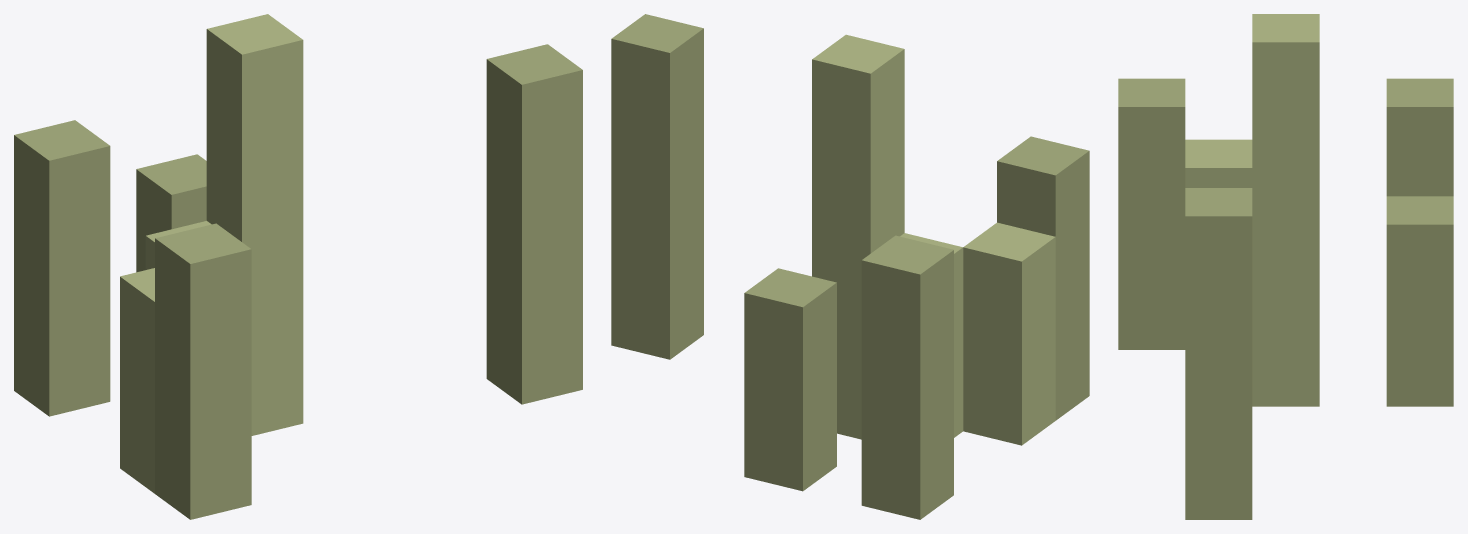
File: juncos_de_playa_02.glb
3 renders of one model, left to right at view 1: azimuth 30°, elevation 25°; view 2: azimuth 150°, elevation 25°; view 3: azimuth 270°, elevation 25°, orthographic. The views are drawn at different scales.
Visible parts, largest first — view 1: juncos_de_playa_02; view 2: juncos_de_playa_02; view 3: juncos_de_playa_02.
Boxes of the visible parts, box(x1,y1,x2,y2) form: juncos_de_playa_02: box(14, 14, 582, 519); juncos_de_playa_02: box(611, 14, 1089, 519); juncos_de_playa_02: box(1118, 14, 1453, 519).
Bounding box in the file's own units: 0.7 × 0.6 × 0.5.
